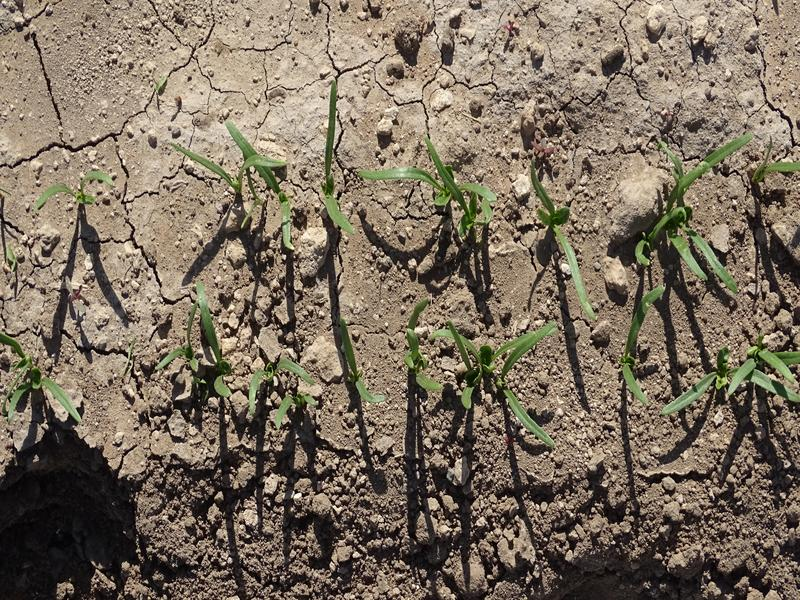Espinaca: (407, 301, 554, 447), (627, 141, 754, 297), (161, 294, 311, 422), (624, 304, 797, 411), (189, 128, 300, 250), (526, 165, 608, 319), (362, 144, 496, 227), (1, 334, 76, 431), (319, 84, 356, 240), (336, 321, 378, 408), (40, 168, 116, 203)
